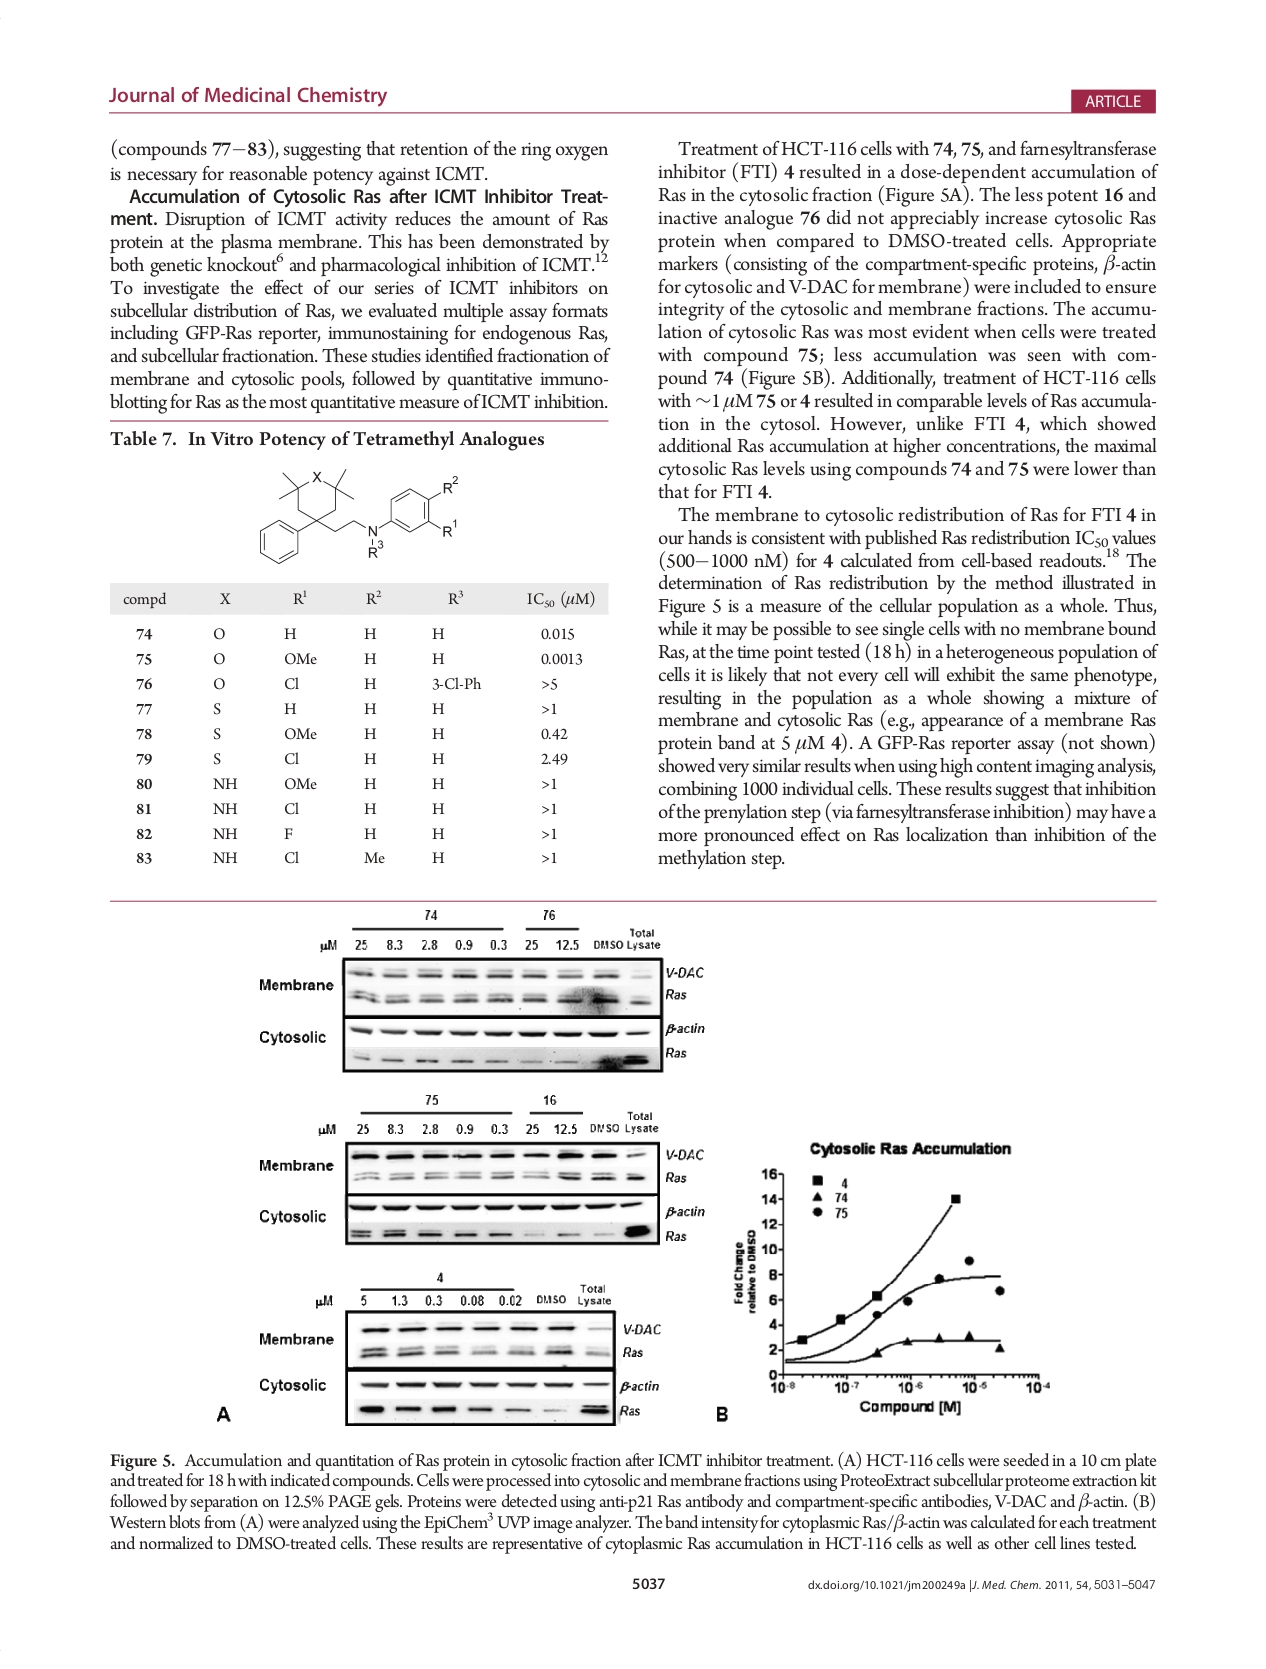exist_molecular: (253, 467, 464, 571)
